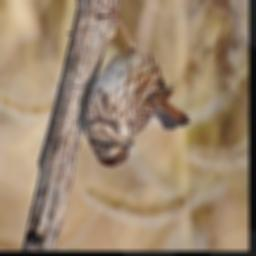Sparrow: (81, 0, 193, 169)
